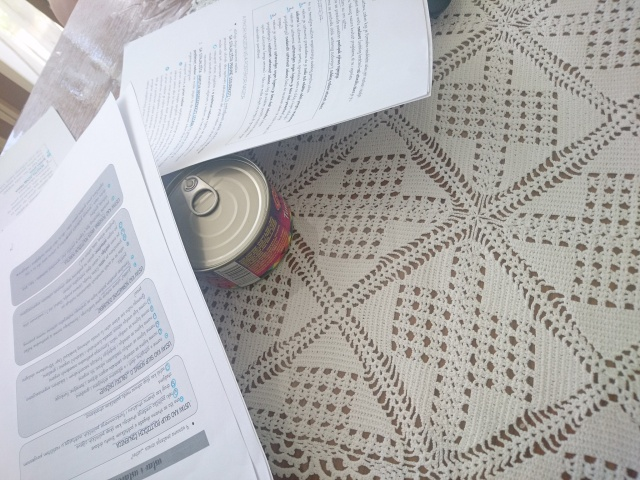Giana Tuna Salad Mexico 185g: (152, 152, 295, 292)
